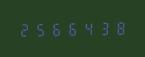eight: (113, 19, 128, 36)
five: (33, 20, 48, 37)
four: (81, 19, 96, 36)
six: (49, 20, 64, 37), (65, 20, 80, 36)
three: (97, 19, 112, 36)
two: (17, 20, 32, 37)
